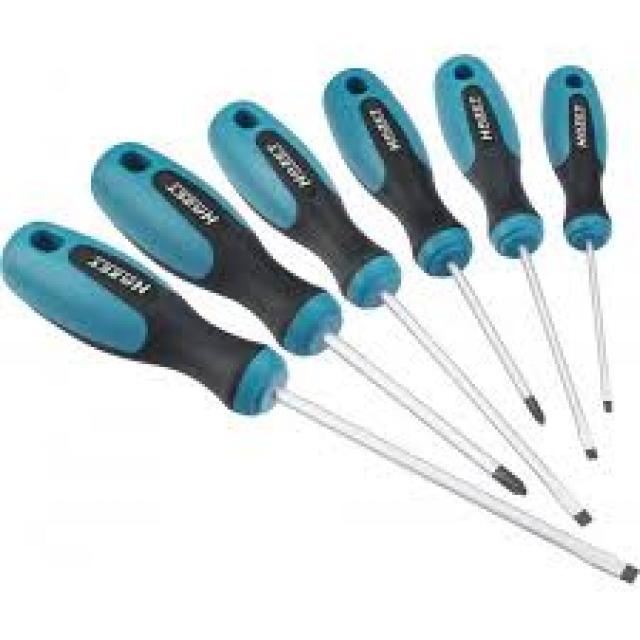screwdriver: (0, 219, 640, 589), (208, 98, 594, 525), (87, 139, 530, 498), (316, 54, 552, 427), (432, 56, 606, 466), (538, 62, 626, 416)
